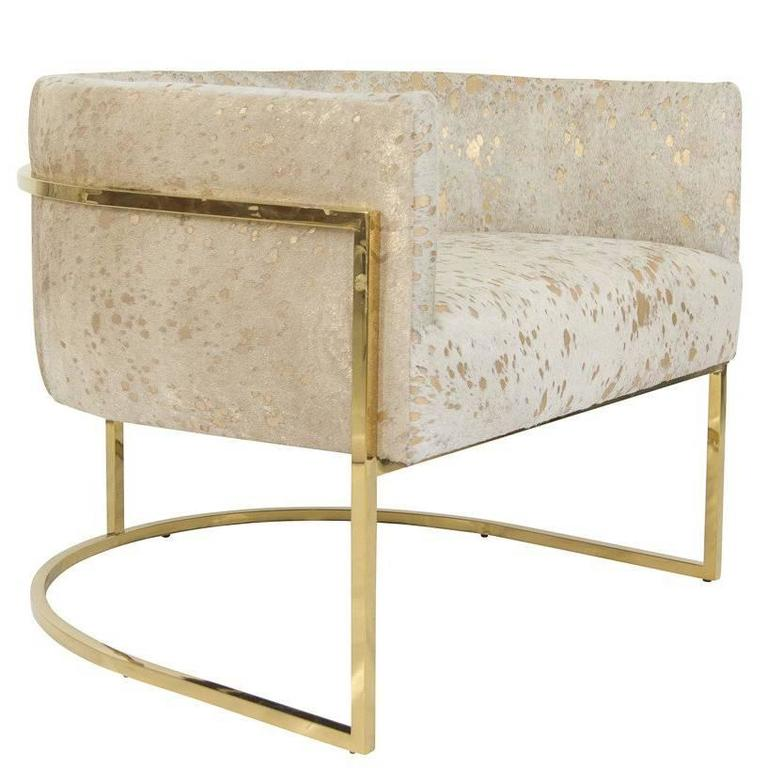chairs: (12, 58, 749, 753)
